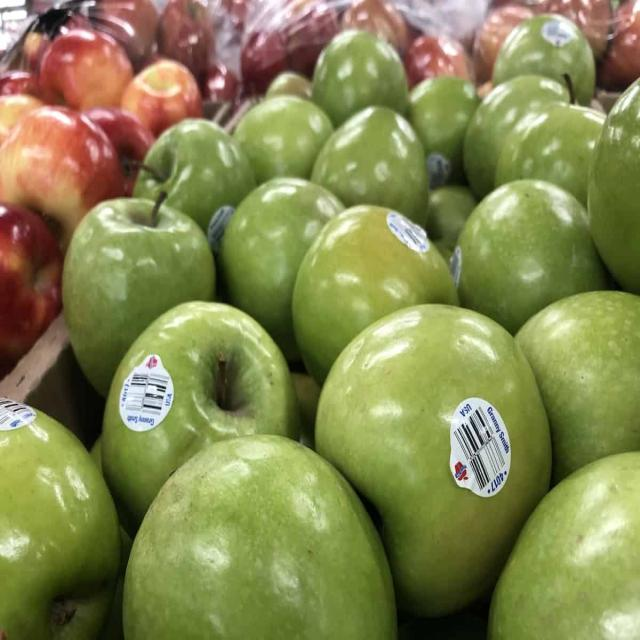Green Apple: (121, 434, 399, 640), (483, 448, 640, 640), (310, 104, 432, 224), (131, 119, 260, 228), (588, 84, 640, 293), (491, 12, 598, 101)
Red Apple: (61, 196, 219, 397), (1, 403, 123, 640), (2, 204, 65, 390)
